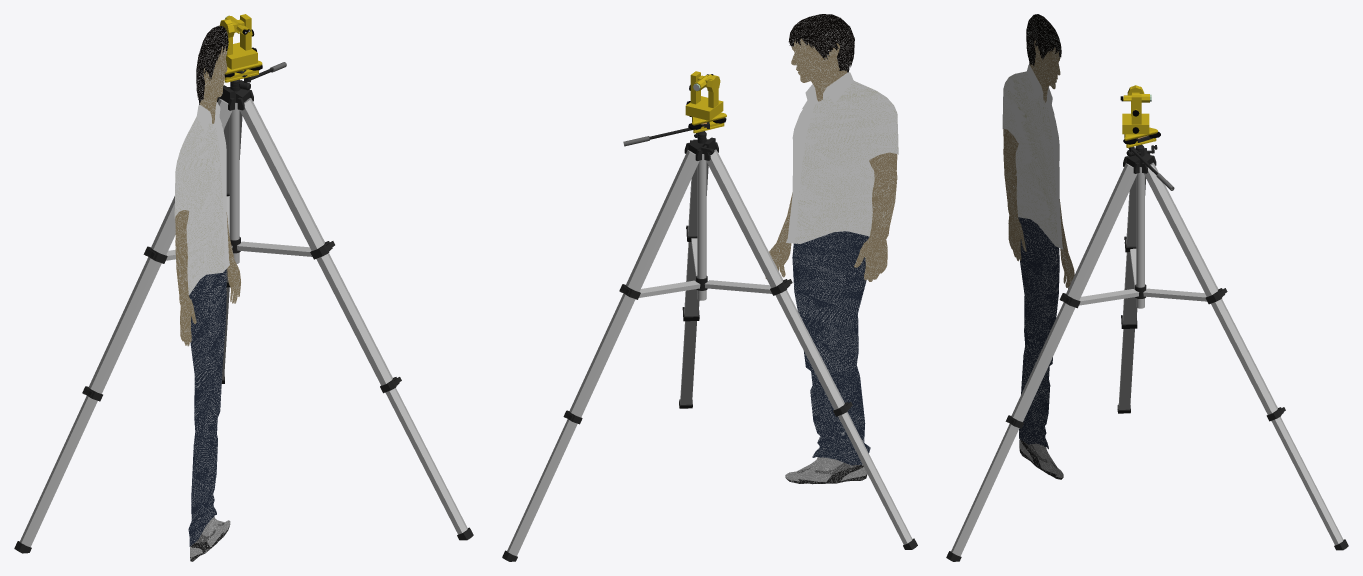
Rendered from man_vtg_tripod.dae.
The picture shows the model from 3 angles, left to right: view 1: azimuth 30°, elevation 25°; view 2: azimuth 150°, elevation 25°; view 3: azimuth 270°, elevation 25°; orthographic projection. The views are drawn at different scales.
Parts seen in each view (by area): view 1: コンポーネント_57 (×7), group_2, group_21, group_18, group_10, group_7, group_36, group_15, group_40, コンポーネント_52; view 2: コンポーネント_57 (×8), group_46, group_15, group_52, group_49, group_21, group_18, group_36, group_7, group_10, group_2, group_39 (+2 smaller); view 3: コンポーネント_57 (×7), group_2, group_46, group_10, group_7, group_52, group_49, group_36, group_18, group_21, group_15, group_38 (+1 smaller).
Part boxes in pixels (x1,y1,x2,y2): コンポーネント_57 (×7): (174,25,240,546); group_2: (239,98,324,250); group_21: (89,257,161,393); group_18: (20,396,97,547); group_10: (316,253,392,385); group_7: (385,388,467,534); group_36: (229,103,239,263); group_15: (151,98,232,255); group_40: (237,241,312,256); コンポーネント_52: (226,42,257,69); コンポーネント_57 (×8): (765,14,898,481); group_46: (626,150,699,291); group_15: (706,149,783,288); group_52: (569,293,635,417); group_49: (507,419,577,556); group_21: (775,290,844,409); group_18: (838,412,912,544); group_36: (697,154,706,300); group_7: (680,321,696,404); group_10: (684,242,699,316); group_2: (688,162,708,236); group_39: (704,280,771,293); コンポーネント_57 (×7): (1002,14,1074,449); group_2: (1066,163,1137,300); group_46: (1143,162,1218,296); group_10: (1011,302,1074,421); group_7: (951,424,1019,556); group_52: (1211,298,1277,414); group_49: (1271,417,1343,545); group_36: (1136,167,1144,308); group_18: (1118,328,1134,409); group_21: (1122,252,1137,324); group_15: (1126,176,1146,246); group_38: (1143,288,1206,301).
Size of the model in its own units: 50.21 by 55.52 by 69.54.
